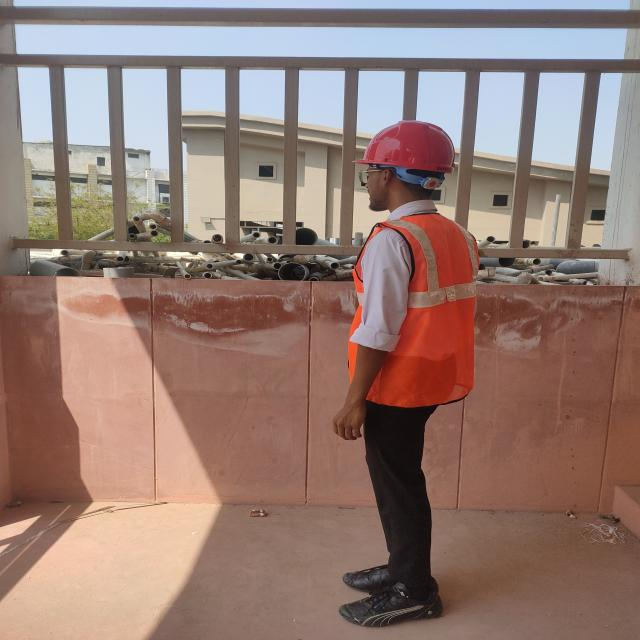safe: (335, 120, 480, 626)
